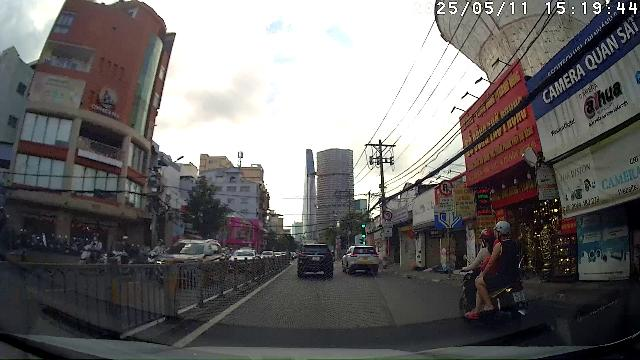103c-cam-oto-re-trai: (383, 212, 392, 220)
124b-cam-oto-quay-dau-xe: (439, 180, 453, 197)
